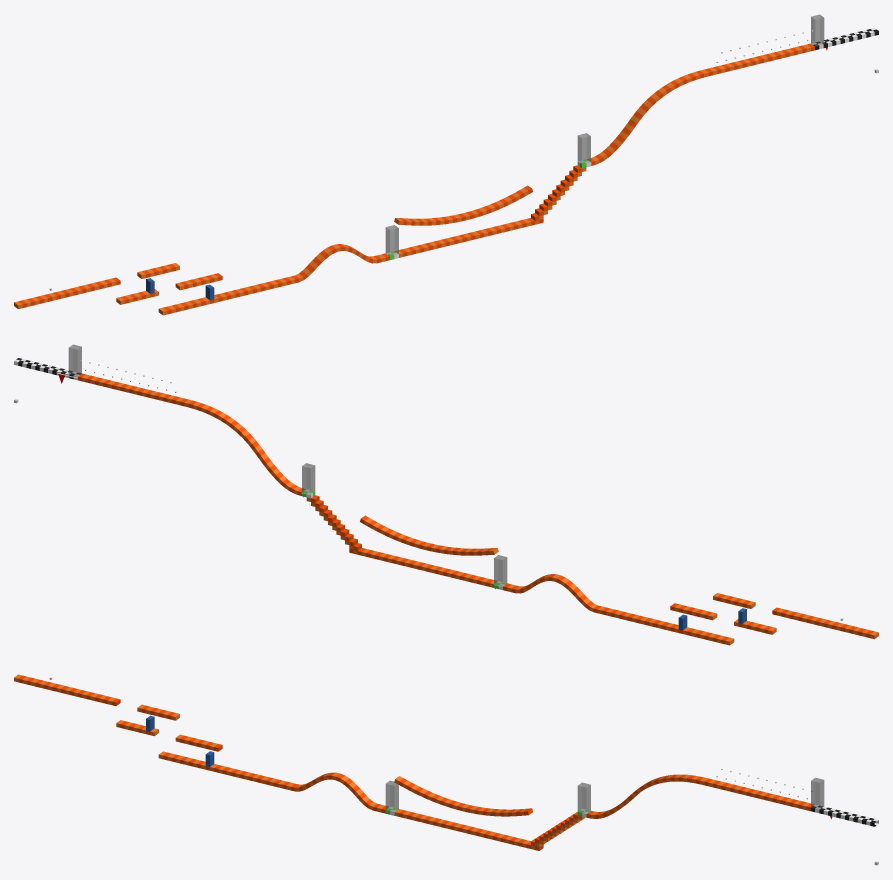
The picture shows the model from 3 angles, top to bottom: view 1: azimuth 30°, elevation 25°; view 2: azimuth 150°, elevation 25°; view 3: azimuth 330°, elevation 25°; orthographic projection.
Visible parts, largest first — view 1: Floor.001; view 2: Floor.001; view 3: Floor.001, Finish_Floor, Finish, Checkpoint.001, Checkpoint.
Part boxes in pixels (box(x1,y1,x2,y2)): Floor.001: box(14, 43, 814, 315); Floor.001: box(78, 373, 878, 645); Floor.001: box(14, 674, 814, 850); Finish_Floor: box(810, 804, 878, 826); Finish: box(811, 777, 824, 809); Checkpoint.001: box(577, 782, 590, 813); Checkpoint: box(385, 780, 398, 811).
Size of what is drawn, in the model's own units: 202 by 30.89 by 1.93.
Materials: 5 (1 with a texture image).
